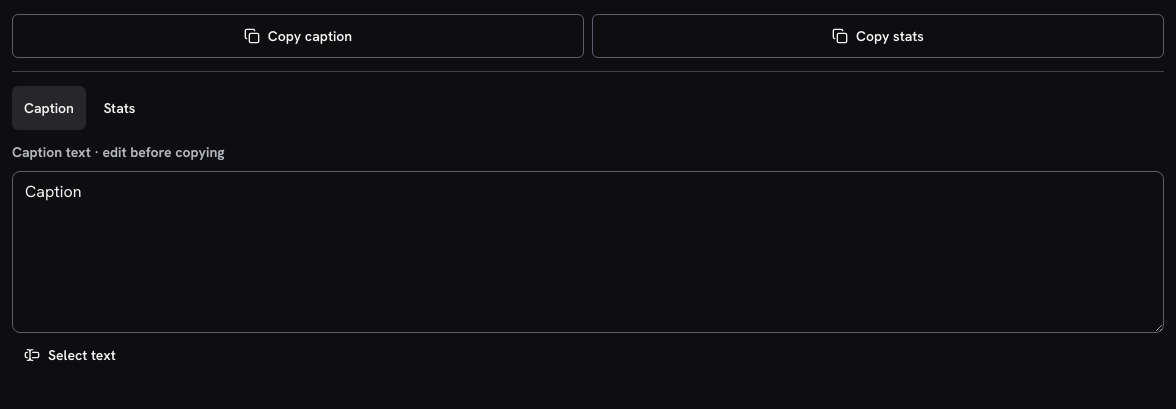
award text tools › keeps caption edits local while copied stats remain the supplied record
The width and height of the screenshot is (1176, 409).
Replace the text in the text box labelled "Caption text · edit before copying" with "Rewritten caption" at [588, 252], box [12,171,1164,333]
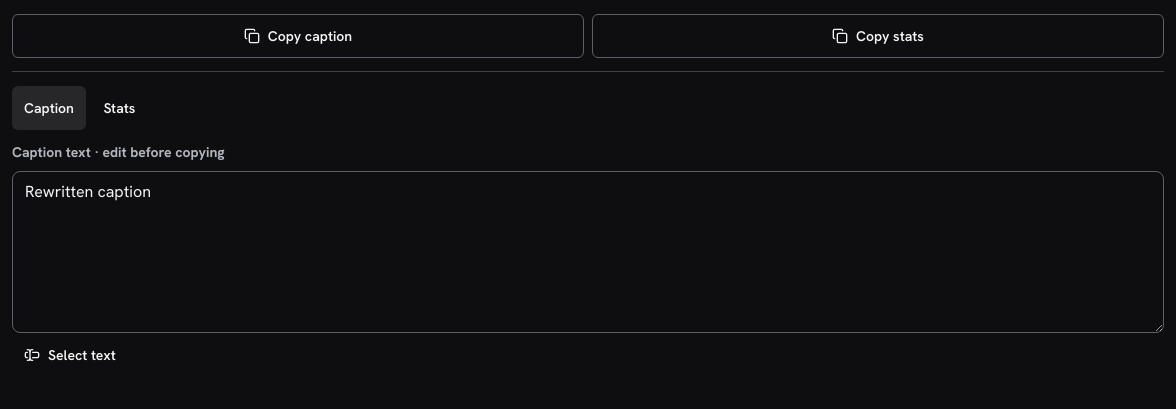
Click the button "Copy stats" at [878, 36], box [592,14,1164,58]
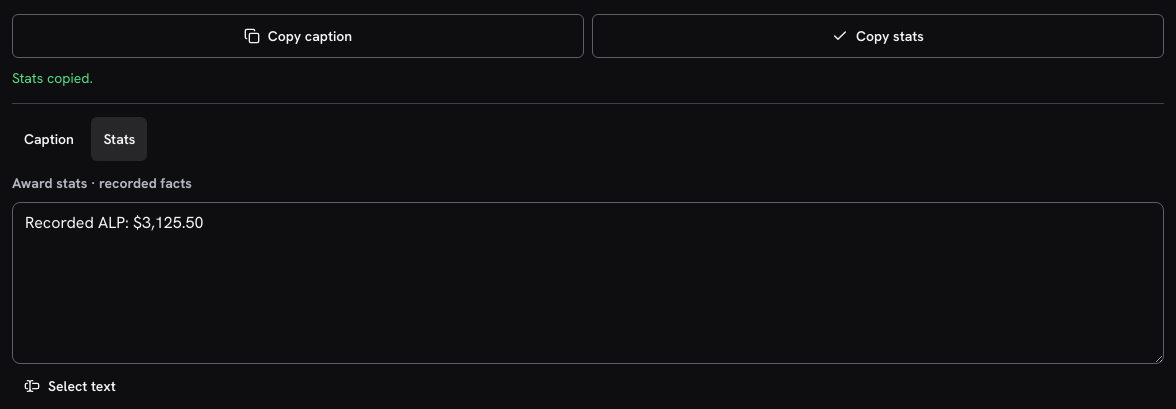
Expected: the text box labelled "Award stats · recorded facts" has attribute readonly, [12,202,1164,364]
